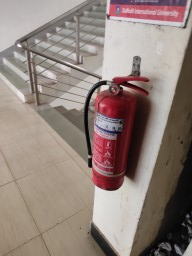fire_extinguisher: (42, 55, 144, 141)
